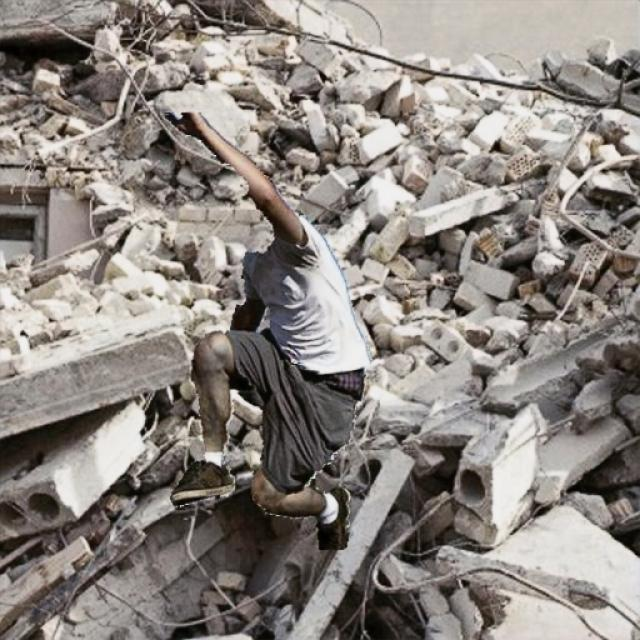Person in Rubble: (164, 112, 372, 548)
